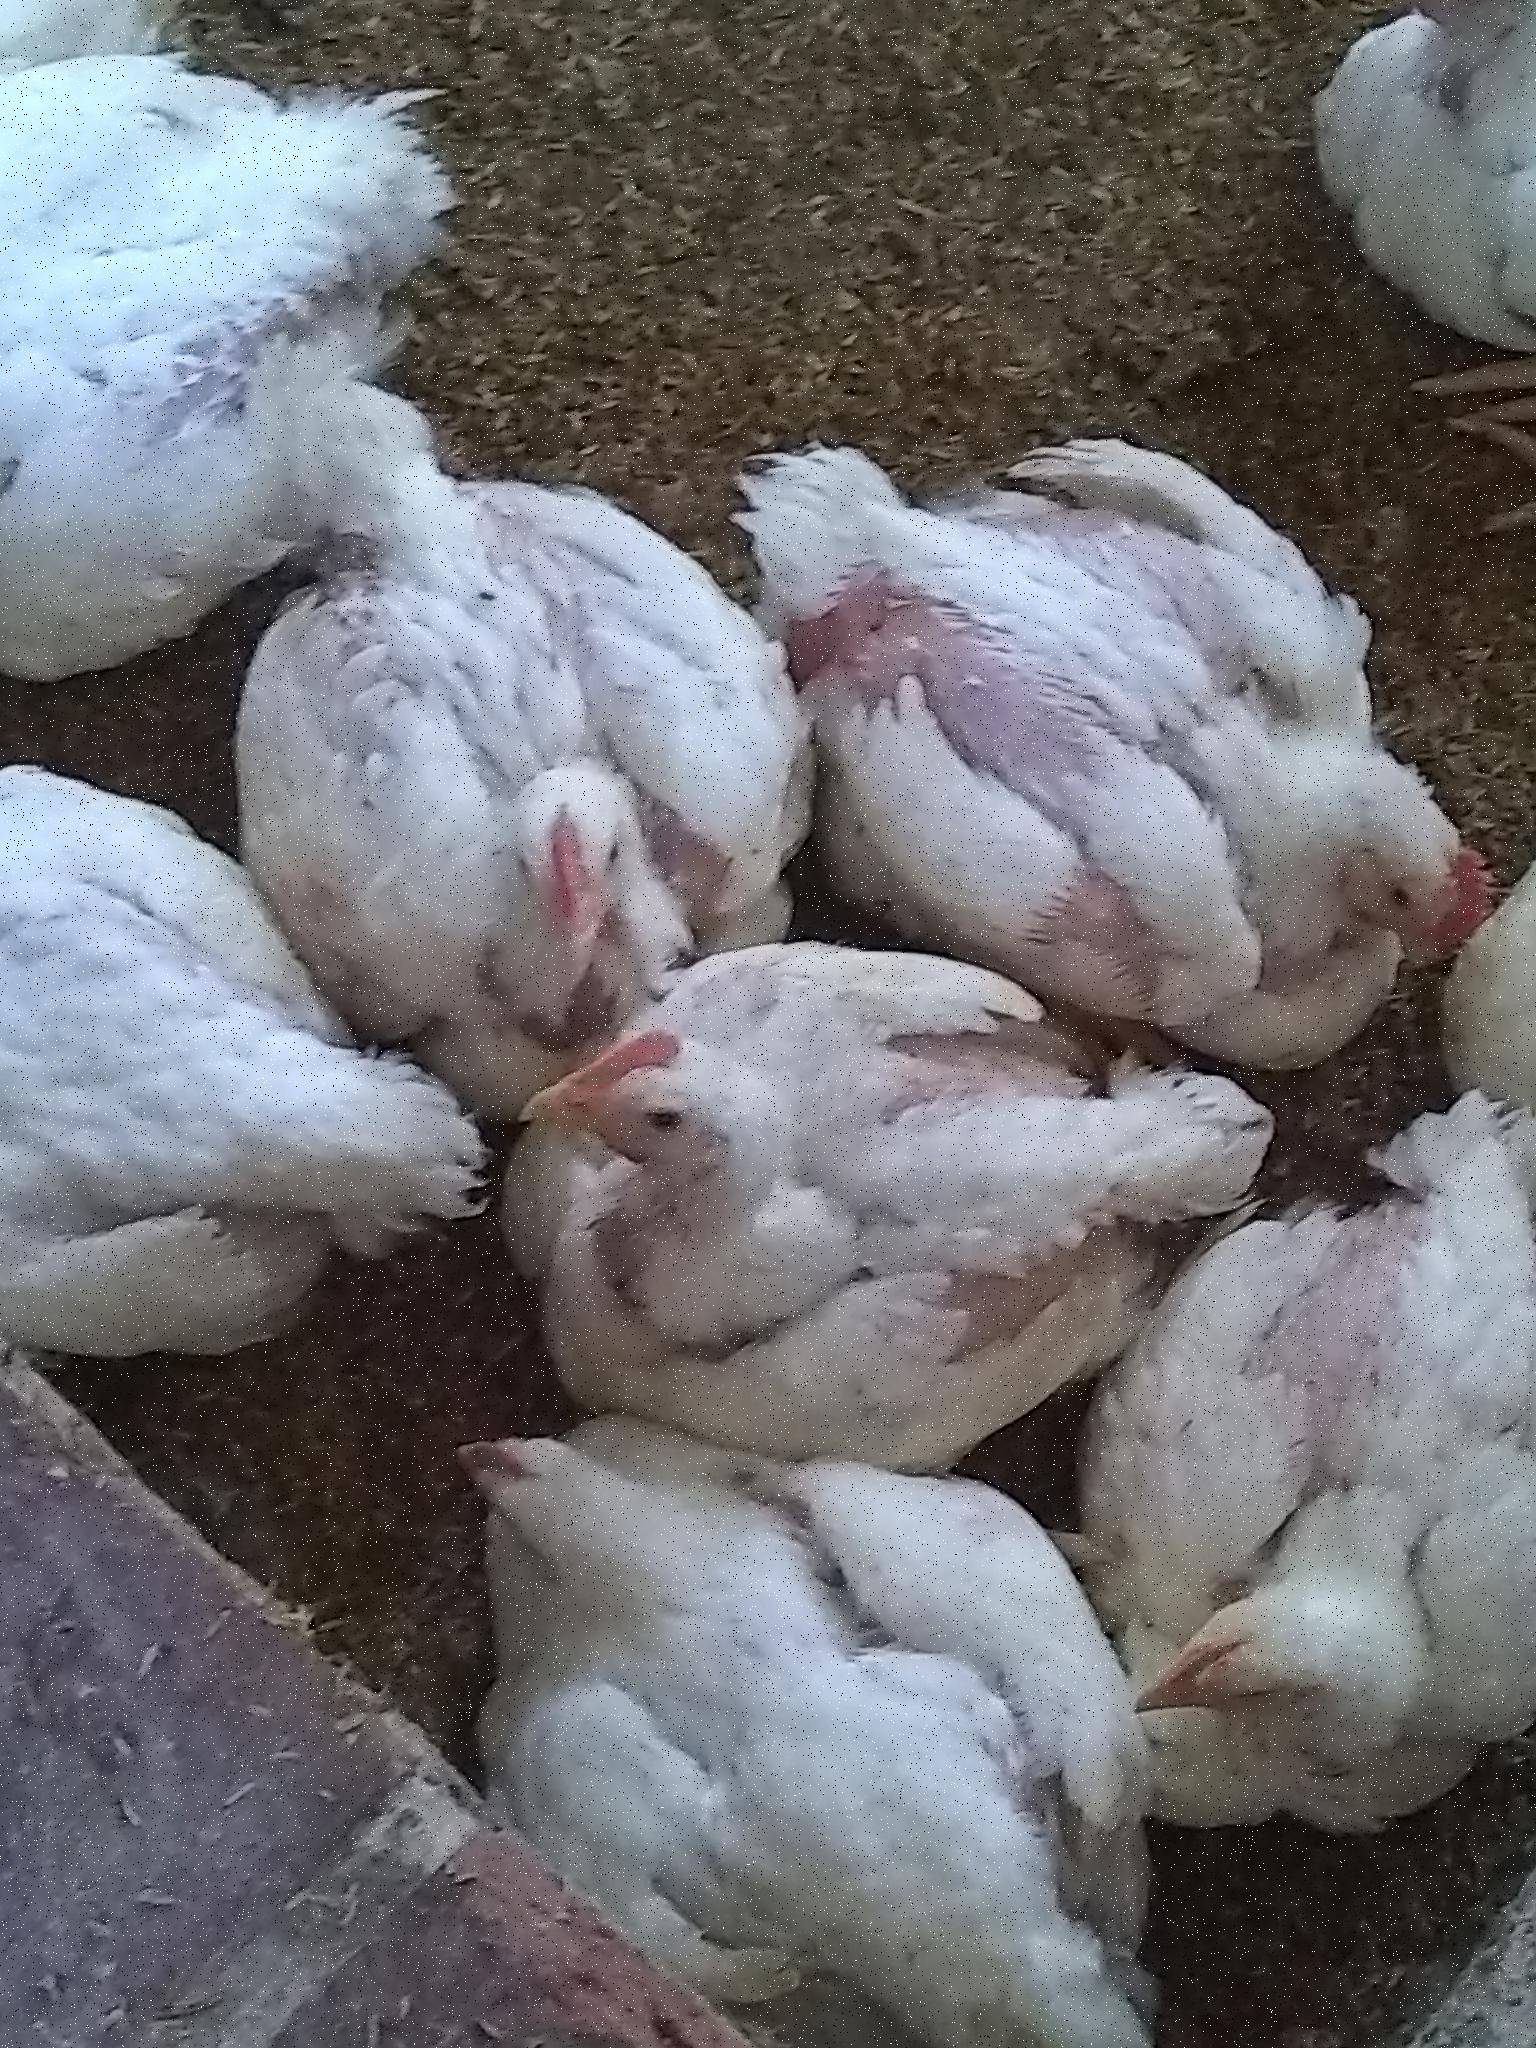Pollos: (432, 1353, 1204, 2048), (795, 410, 1491, 1029), (503, 918, 1246, 1438), (221, 450, 828, 1006), (2, 35, 536, 660), (1105, 1197, 1536, 1846), (2, 764, 337, 1416), (1258, 2, 1536, 472)
